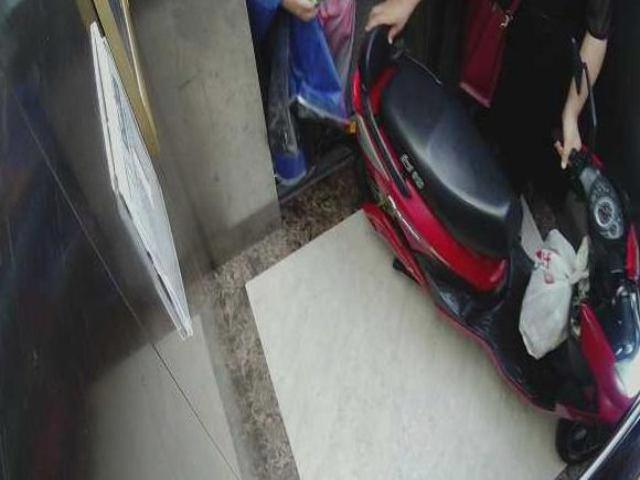emotor: (349, 50, 640, 447)
